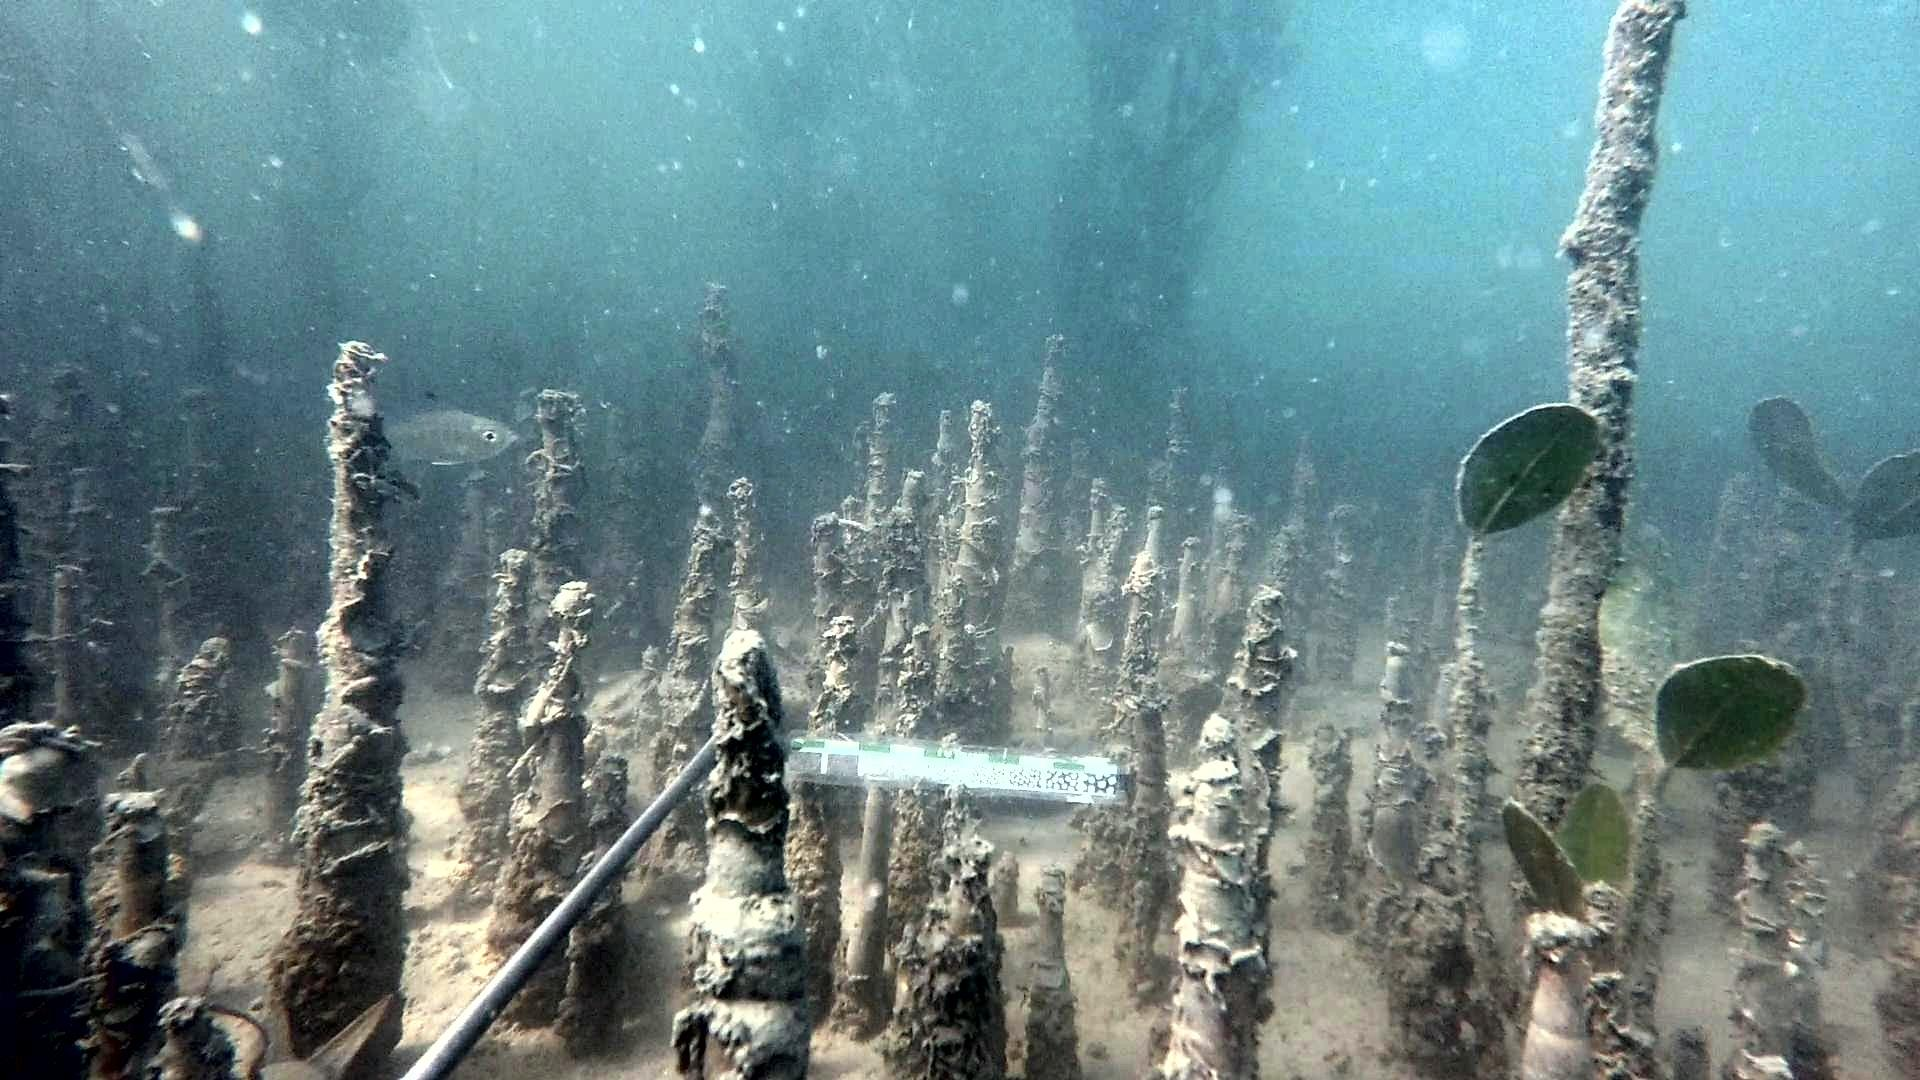gerres: (392, 390, 518, 472)
